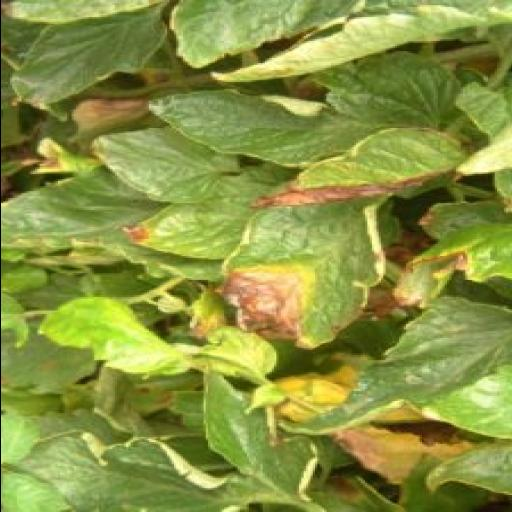Early Blight: (215, 200, 389, 352), (256, 125, 472, 206)
